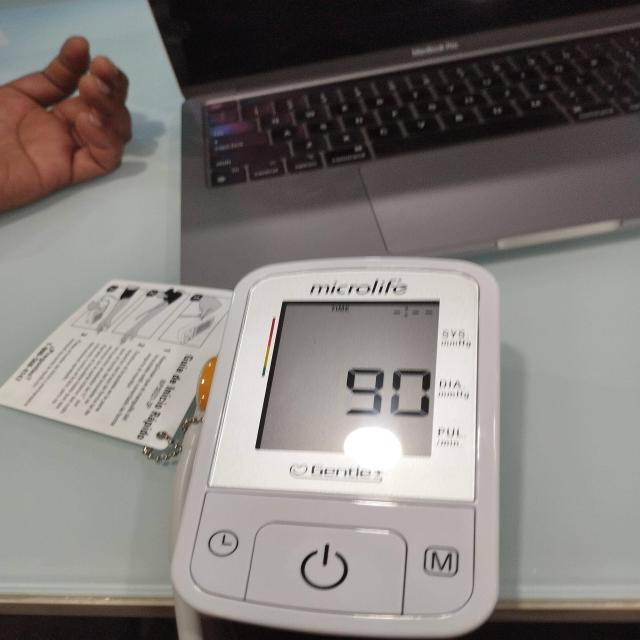bp: (170, 258, 501, 640)
